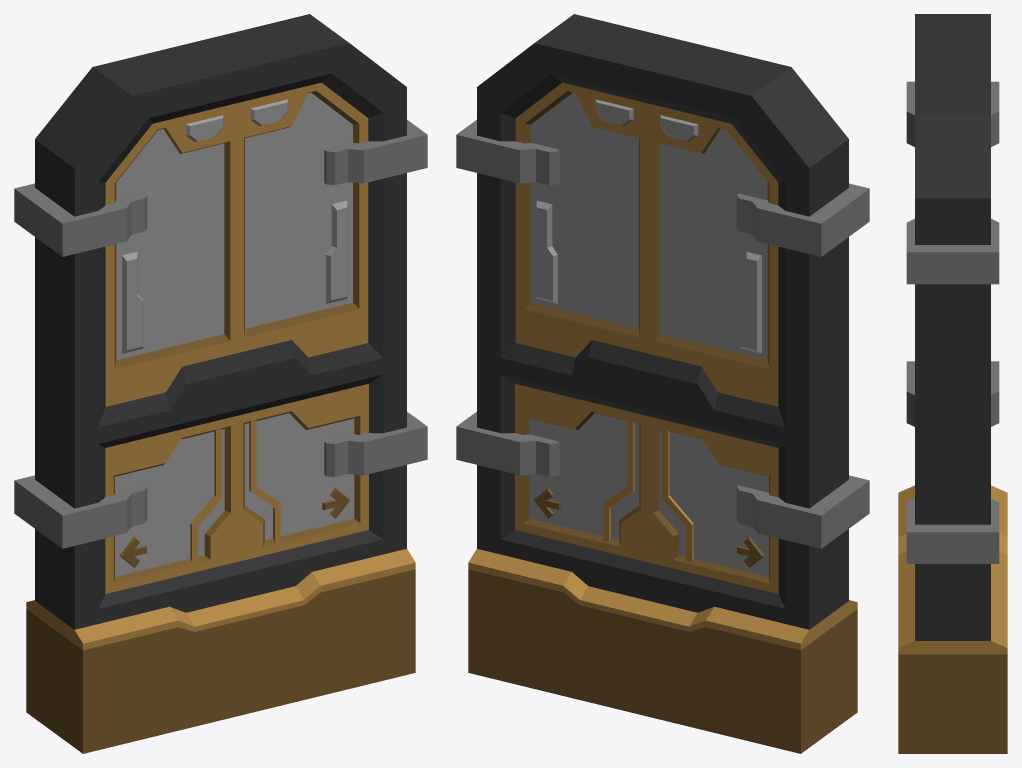
The picture shows the model from 3 angles, left to right: view 1: azimuth 30°, elevation 25°; view 2: azimuth 150°, elevation 25°; view 3: azimuth 270°, elevation 25°; orthographic projection. The views are drawn at different scales.
Parts seen in each view (by area): view 1: Door_Single; view 2: Door_Single; view 3: Door_Single.
Part boxes in pixels (box(x1,y1,x2,y2)): Door_Single: box(14, 14, 427, 753); Door_Single: box(456, 14, 869, 753); Door_Single: box(898, 14, 1007, 753).
Bounding box in the file's own units: 1.67 × 2.79 × 0.4514.
